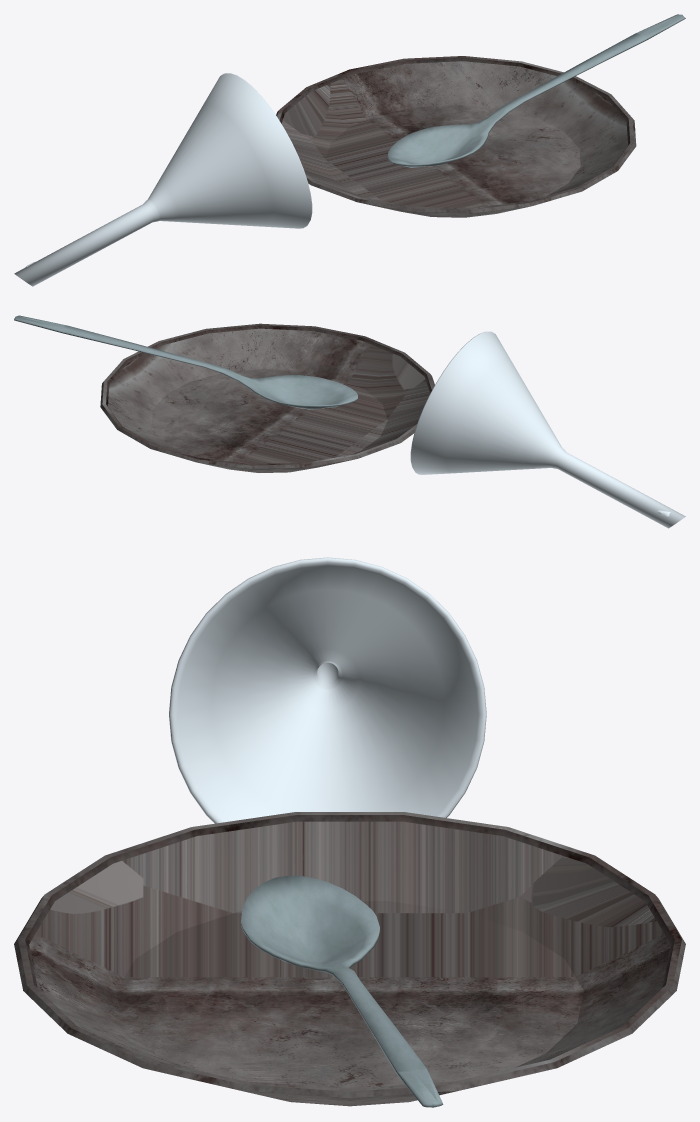
File: sandSeparation.glb
3 views of the same model, one above another, from view 1: azimuth 30°, elevation 25°; view 2: azimuth 150°, elevation 25°; view 3: azimuth 270°, elevation 25° (orthographic). The views are drawn at different scales.
Parts seen in each view (by area): view 1: plate, funnel2, spoon; view 2: plate, funnel2, spoon; view 3: plate, funnel2, spoon.
Part boxes in pixels (<box>): plate: <box>276,56,636,217</box>; funnel2: <box>14,73,312,286</box>; spoon: <box>387,14,685,167</box>; plate: <box>100,323,434,472</box>; funnel2: <box>410,331,685,528</box>; spoon: <box>14,315,357,409</box>; plate: <box>14,812,685,1106</box>; funnel2: <box>169,557,486,823</box>; spoon: <box>241,875,443,1107</box>.
Size of the model in its own units: 0.7783 by 0.1642 by 0.356.
Materials: 3 (3 with a texture image).
